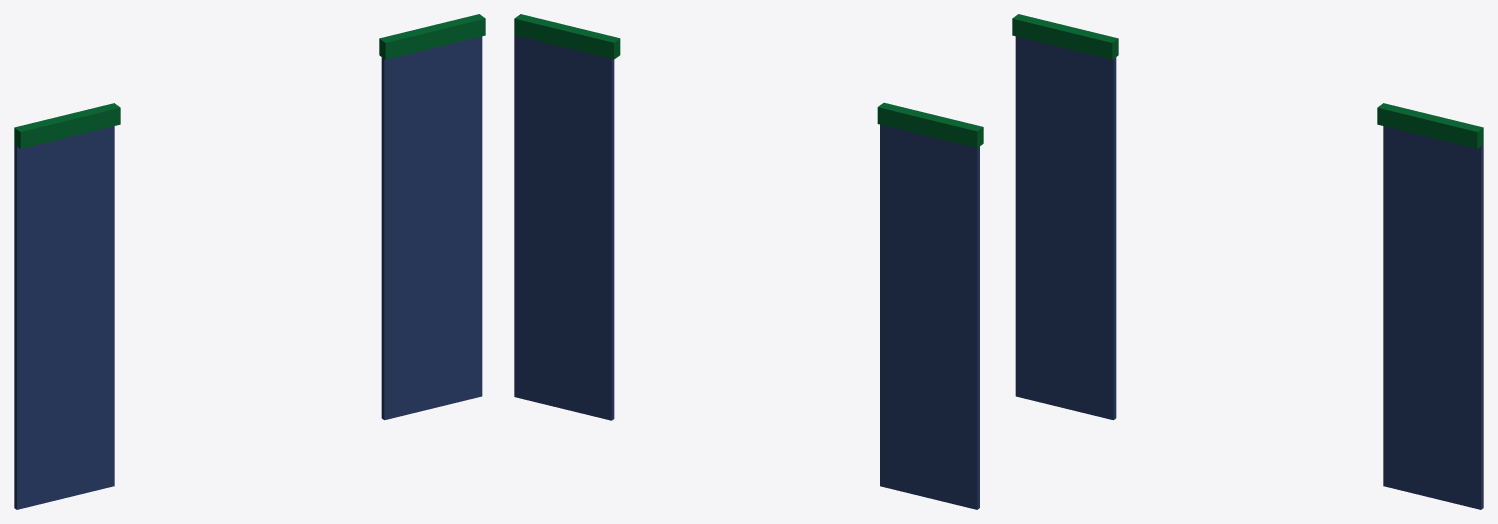
The model's file is wall2.fbx.
3 views of the same model, side by side, from view 1: azimuth 30°, elevation 25°; view 2: azimuth 150°, elevation 25°; view 3: azimuth 330°, elevation 25° (orthographic).
Visible parts, largest first — view 1: Component_22_1, Component_22_2, Component_23_1; view 2: Component_22_1, Component_22_2, Component_23_1; view 3: Component_22_2, Component_22_1, Component_23_1.
Part boxes in pixels (x1,y1,x2,y2): Component_22_1: [381, 36, 482, 420]; Component_22_2: [14, 126, 114, 509]; Component_23_1: [14, 14, 485, 148]; Component_22_1: [514, 35, 614, 420]; Component_22_2: [880, 124, 979, 509]; Component_23_1: [514, 14, 983, 147]; Component_22_2: [1015, 36, 1116, 420]; Component_22_1: [1383, 126, 1483, 509]; Component_23_1: [1012, 14, 1483, 148].
Bounding box in the file's own units: 386 × 302 × 9.
